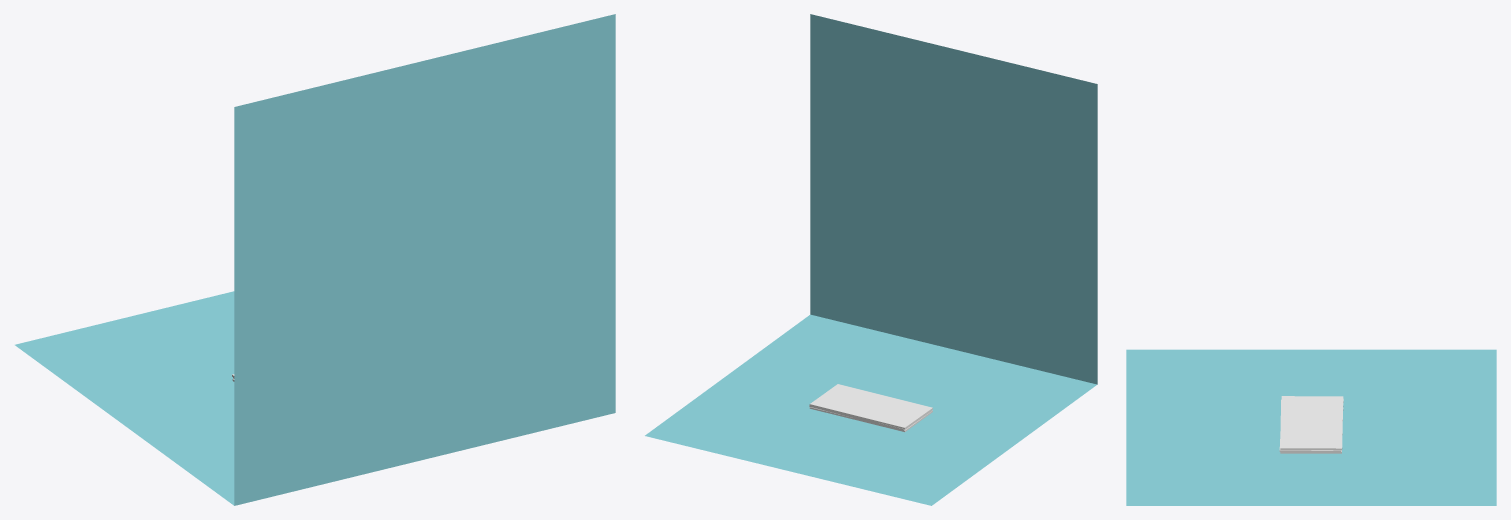
File: Styrofoam.glb
3 renders of one model, left to right at view 1: azimuth 30°, elevation 25°; view 2: azimuth 150°, elevation 25°; view 3: azimuth 270°, elevation 25°, orthographic. The views are drawn at different scales.
Visible parts, largest first — view 1: Foam_Wall, Foam_Floor; view 2: Foam_Wall, Foam_Floor, Foam_Board_2; view 3: Foam_Floor, Foam_Board_2.
Part boxes in pixels (<box>): Foam_Wall: <box>234,14,615,505</box>; Foam_Floor: <box>15,291,234,505</box>; Foam_Wall: <box>810,14,1097,384</box>; Foam_Floor: <box>645,314,1096,505</box>; Foam_Board_2: <box>809,384,932,429</box>; Foam_Floor: <box>1126,349,1496,505</box>; Foam_Board_2: <box>1280,396,1343,450</box>.
Bounding box in the file's own units: 6 × 6 × 6.
